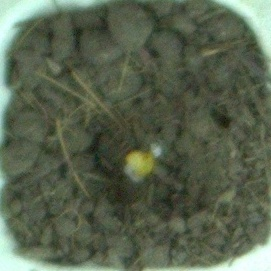chilli seed: (120, 146, 161, 181)
